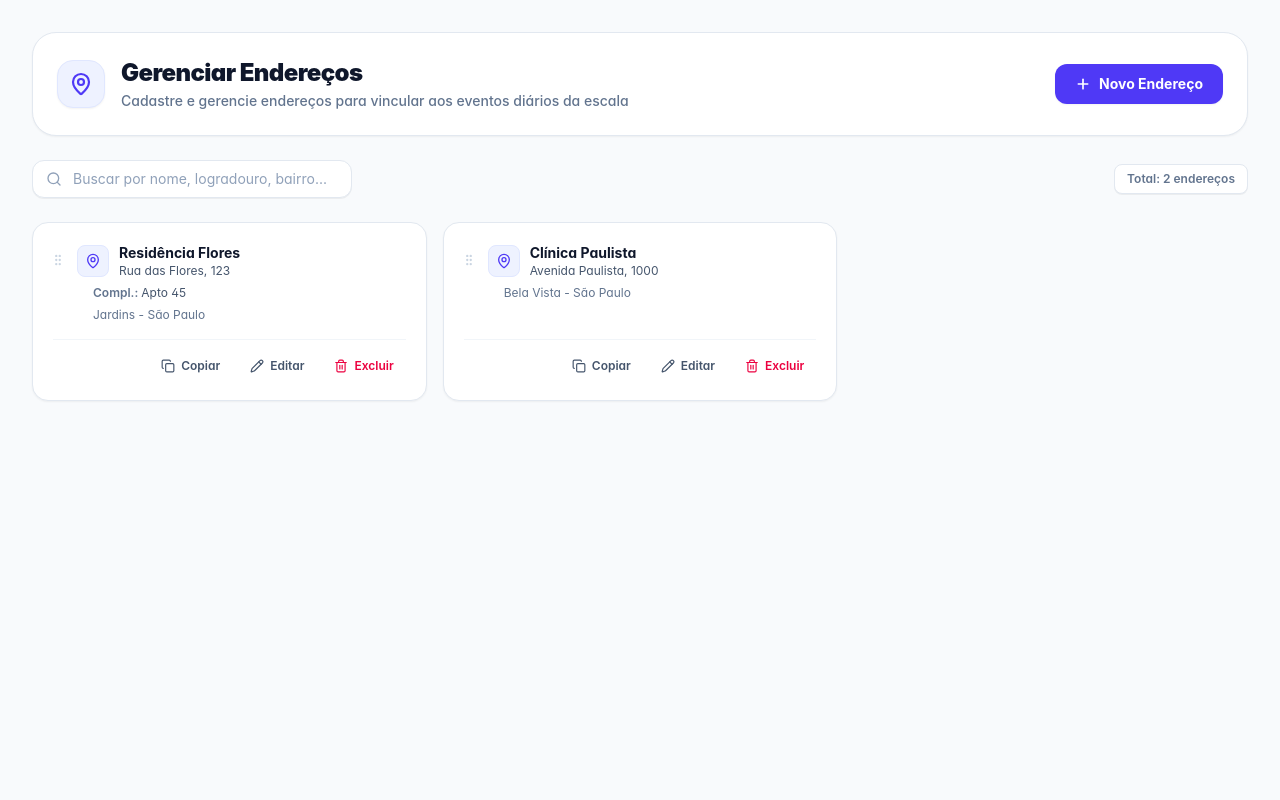
Test case: AddressManagementView › renders the address form fields, without a CEP field
# Open Add Modal
Click the button "Novo Endereço" at (1139, 84), box [1055,64,1223,104]
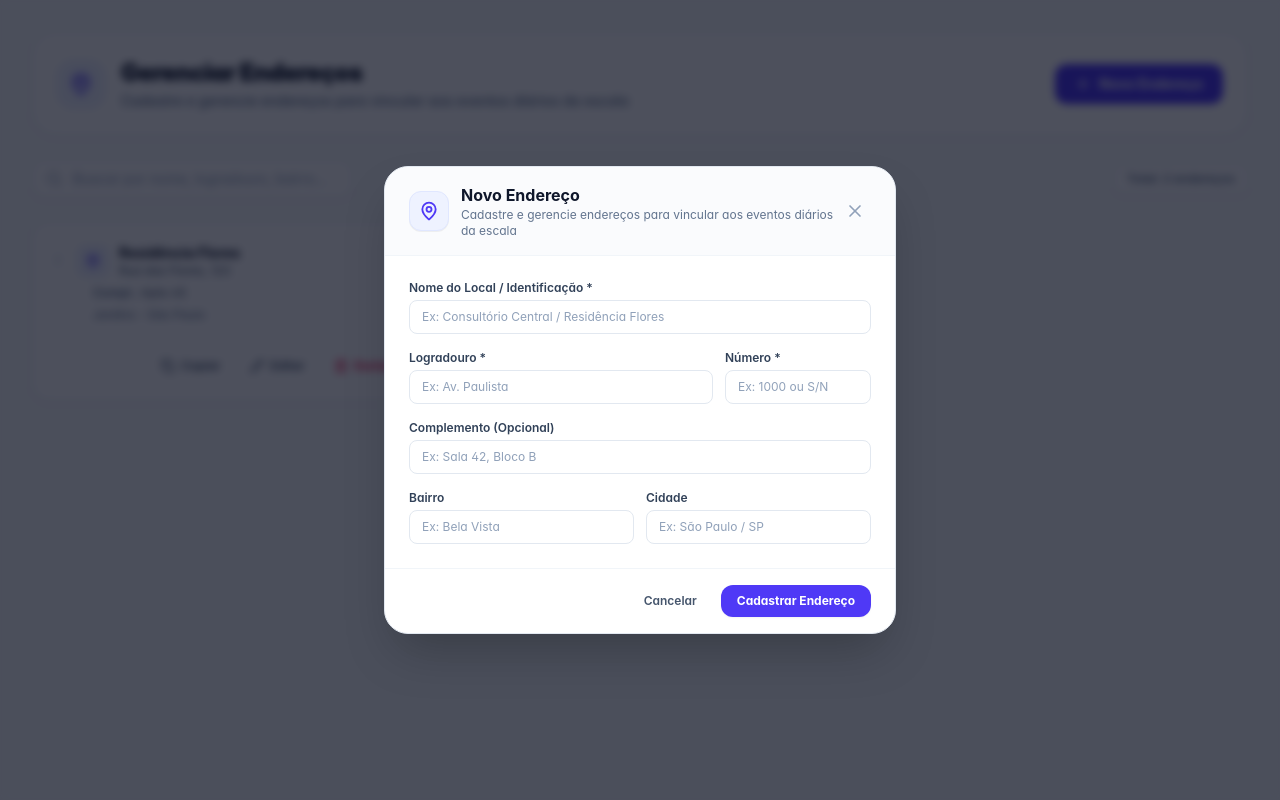
Check: the field labelled "Nome do Local / Identificação *" is shown, box [409,300,871,334]
Check: the field labelled "Logradouro *" is shown, box [409,370,713,404]
Check: the field labelled "Número *" is shown, box [725,370,871,404]
